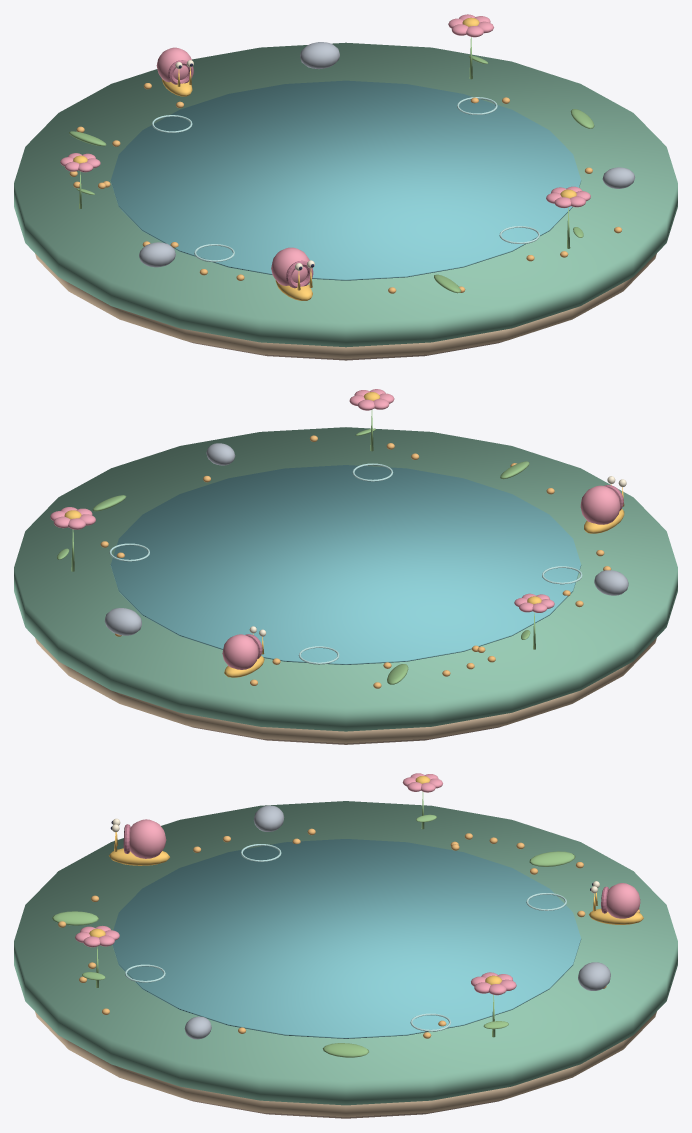
Rendered from world.glb.
The picture shows the model from 3 angles, top to bottom: view 1: azimuth 30°, elevation 25°; view 2: azimuth 150°, elevation 25°; view 3: azimuth 270°, elevation 25°; orthographic projection.
Parts seen in each view (by area): view 1: Cone, Cone.003, Cone.001, snail.002, snail.001, flower.001, flower.003, stone.001, stone.002, flower.002, Cone.002, stone.003; view 2: Cone, Cone.003, Cone.001, snail.002, snail.001, flower.001, flower.003, stone.001, flower.002, stone.002, Cone.002; view 3: Cone, Cone.003, Cone.001, snail.002, snail.001, flower.001, flower.003, flower.002, stone.001, stone.002, Cone.002, leaf.002 (+2 smaller).
Boxes of the visible parts, box(x1,y1,x2,y2) form: Cone: box(14, 42, 677, 347); Cone.003: box(110, 80, 581, 280); Cone.001: box(35, 253, 656, 358); snail.002: box(271, 247, 314, 300); snail.001: box(156, 47, 193, 96); flower.001: box(448, 14, 493, 79); flower.003: box(546, 186, 590, 248); stone.001: box(300, 42, 339, 68); stone.002: box(139, 242, 175, 267); flower.002: box(60, 153, 100, 208); Cone.002: box(188, 341, 503, 360); stone.003: box(602, 167, 634, 188); Cone: box(14, 427, 677, 731); Cone.003: box(110, 465, 581, 664); Cone.001: box(35, 638, 656, 743); snail.002: box(580, 476, 626, 533); snail.001: box(222, 626, 266, 677); flower.001: box(50, 507, 95, 571); flower.003: box(349, 389, 394, 451); stone.001: box(104, 608, 141, 635); flower.002: box(514, 593, 554, 649); stone.002: box(594, 570, 628, 595); Cone.002: box(189, 726, 502, 744); Cone: box(14, 801, 677, 1105); Cone.003: box(112, 839, 581, 1038); Cone.001: box(35, 1011, 656, 1117); snail.002: box(109, 818, 169, 865); snail.001: box(589, 881, 643, 924); flower.001: box(471, 972, 516, 1037); flower.003: box(75, 925, 119, 987); flower.002: box(402, 773, 442, 829); stone.001: box(578, 962, 610, 990); stone.002: box(253, 805, 284, 831); Cone.002: box(188, 1099, 503, 1118); leaf.002: box(529, 851, 575, 866).
Size of the model in its own units: 9.6 by 1.75 by 9.6.
